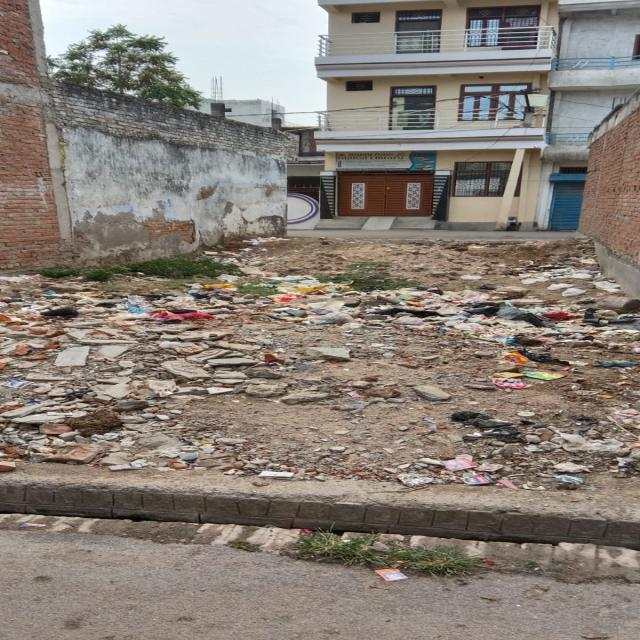Garbage: (9, 262, 632, 471)
